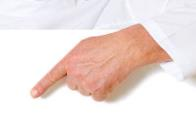up: (28, 27, 148, 103)
